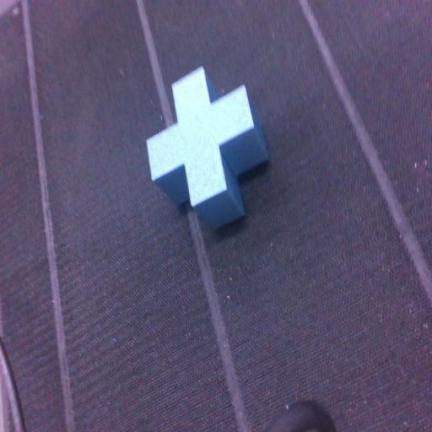cross: (147, 68, 267, 227)
